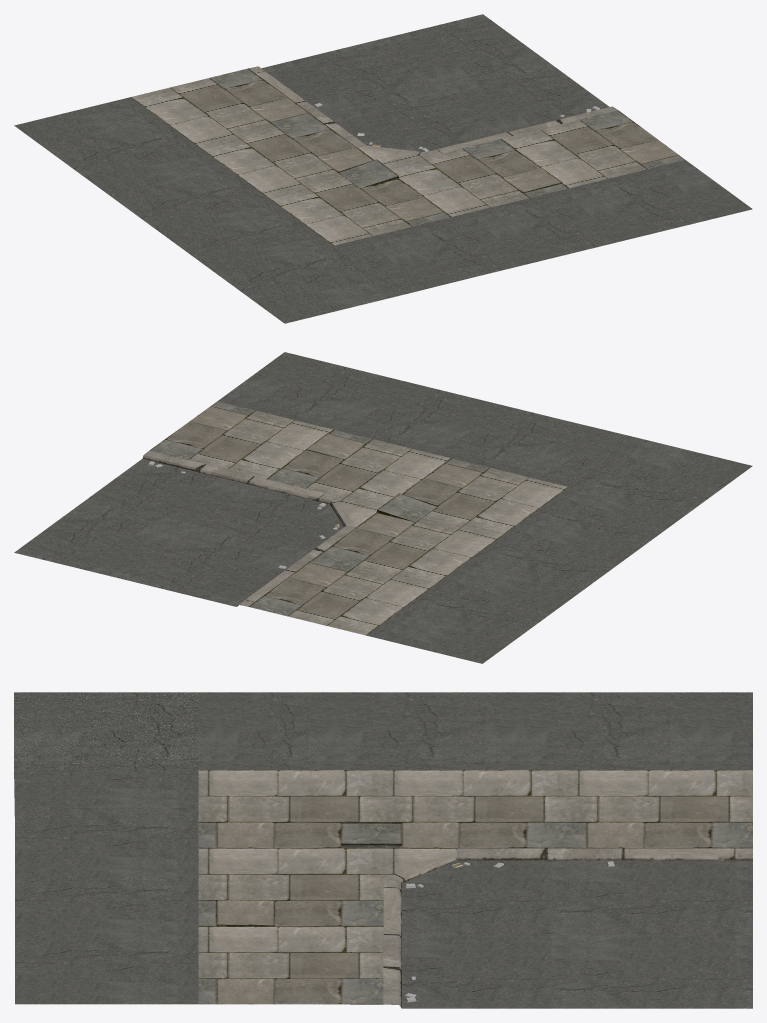
File: bz_turn_road_01.fbx
3 views of the same model, one above another, from view 1: azimuth 30°, elevation 25°; view 2: azimuth 150°, elevation 25°; view 3: azimuth 270°, elevation 25° (orthographic). The views are drawn at different scales.
Visible parts, largest first — view 1: bz_turn_road_01; view 2: bz_turn_road_01; view 3: bz_turn_road_01.
Part boxes in pixels (x1=…): bz_turn_road_01: x1=14, y1=14, x2=752, y2=323; bz_turn_road_01: x1=14, y1=352, x2=752, y2=663; bz_turn_road_01: x1=14, y1=692, x2=752, y2=1008.
Size of the model in its own units: 800 by 11.6 by 800.
